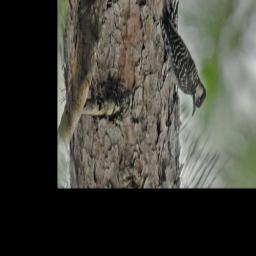Woodpecker: (160, 5, 207, 122)
